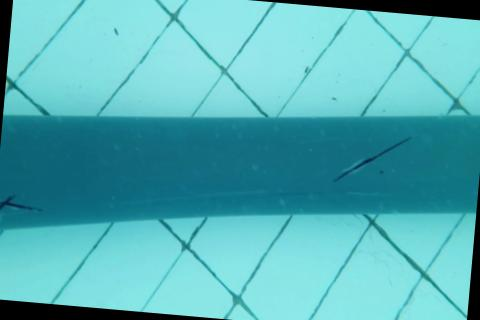keretakan: (332, 127, 413, 189), (0, 192, 46, 231)
